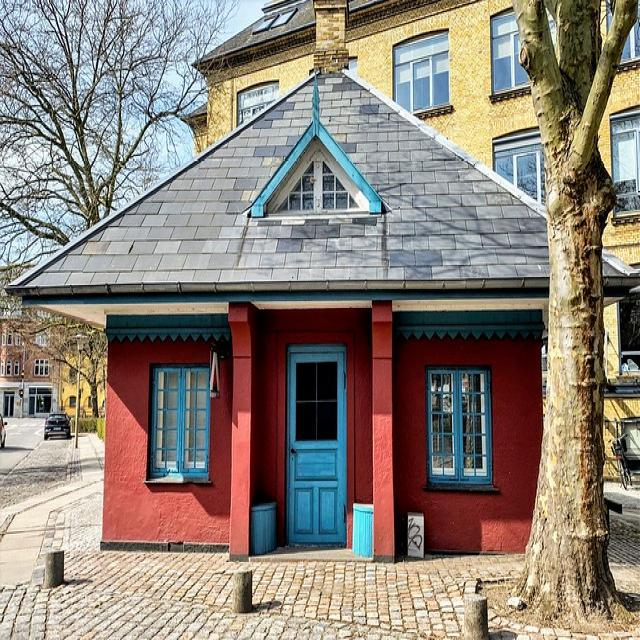Normal_building: (2, 63, 634, 566)
